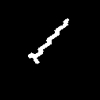half_double_crochet: (28, 19, 68, 62)
